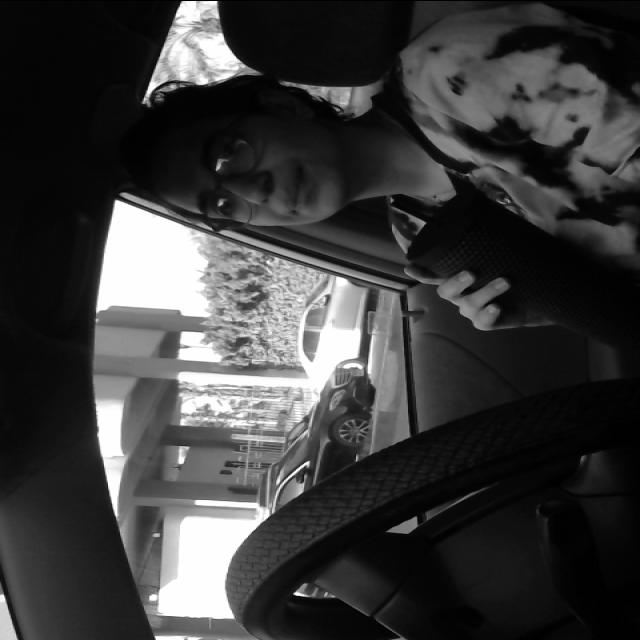drinking: (386, 178, 640, 364)
